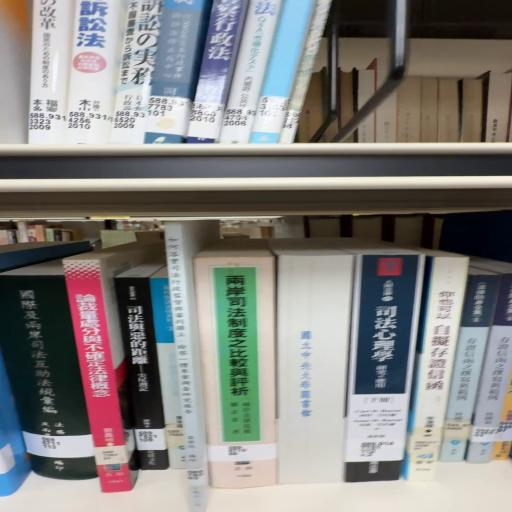backward: (274, 239, 355, 484)
book: (0, 250, 97, 479), (68, 234, 148, 491), (340, 254, 423, 485), (406, 254, 474, 485), (194, 250, 274, 446), (166, 223, 218, 481), (114, 266, 166, 477), (465, 268, 509, 463)
